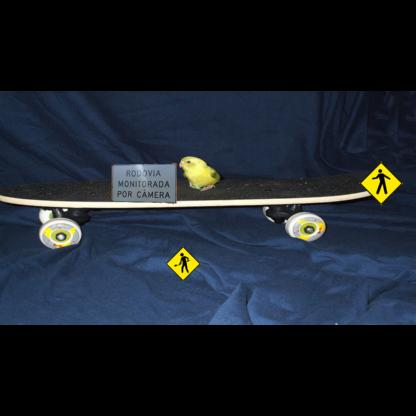A-24: (166, 246, 200, 281)
A-32a: (360, 162, 402, 205)
I-E: (112, 163, 177, 204)
